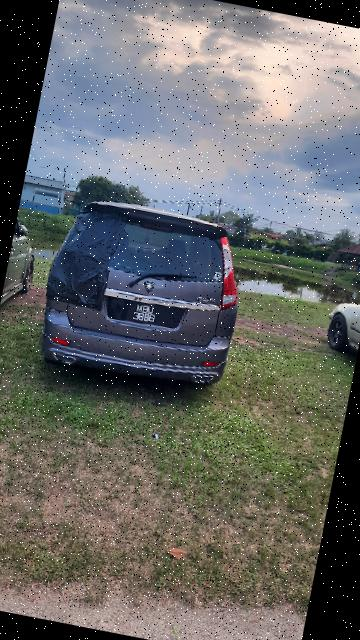License_Plate: (99, 292, 196, 335)
car: (30, 185, 257, 397)
